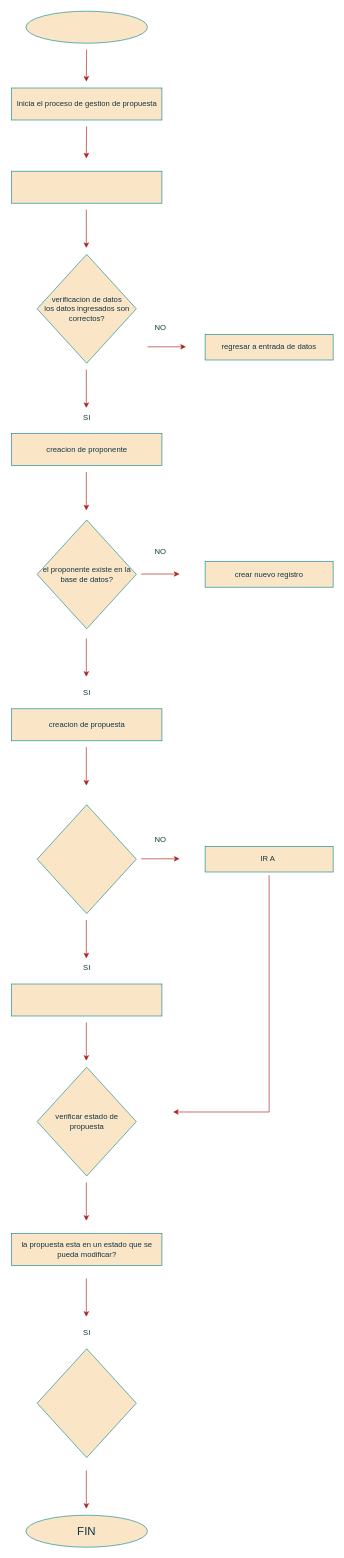
Image size: 344x1558. Some labels were removed from this diagram. The centre of each missing label's shape, as x and y in pixels:
"Actualizacion de propuesta" belongs at (x=86, y=1403).
"asociar documentos adjuntos" belongs at (x=86, y=859).
"entrada de datos para crear una nueva propuesta" belongs at (x=86, y=187).
"gestion de documentos adjuntos (crud)" belongs at (x=86, y=999).
"INICIO" belongs at (x=86, y=27).
